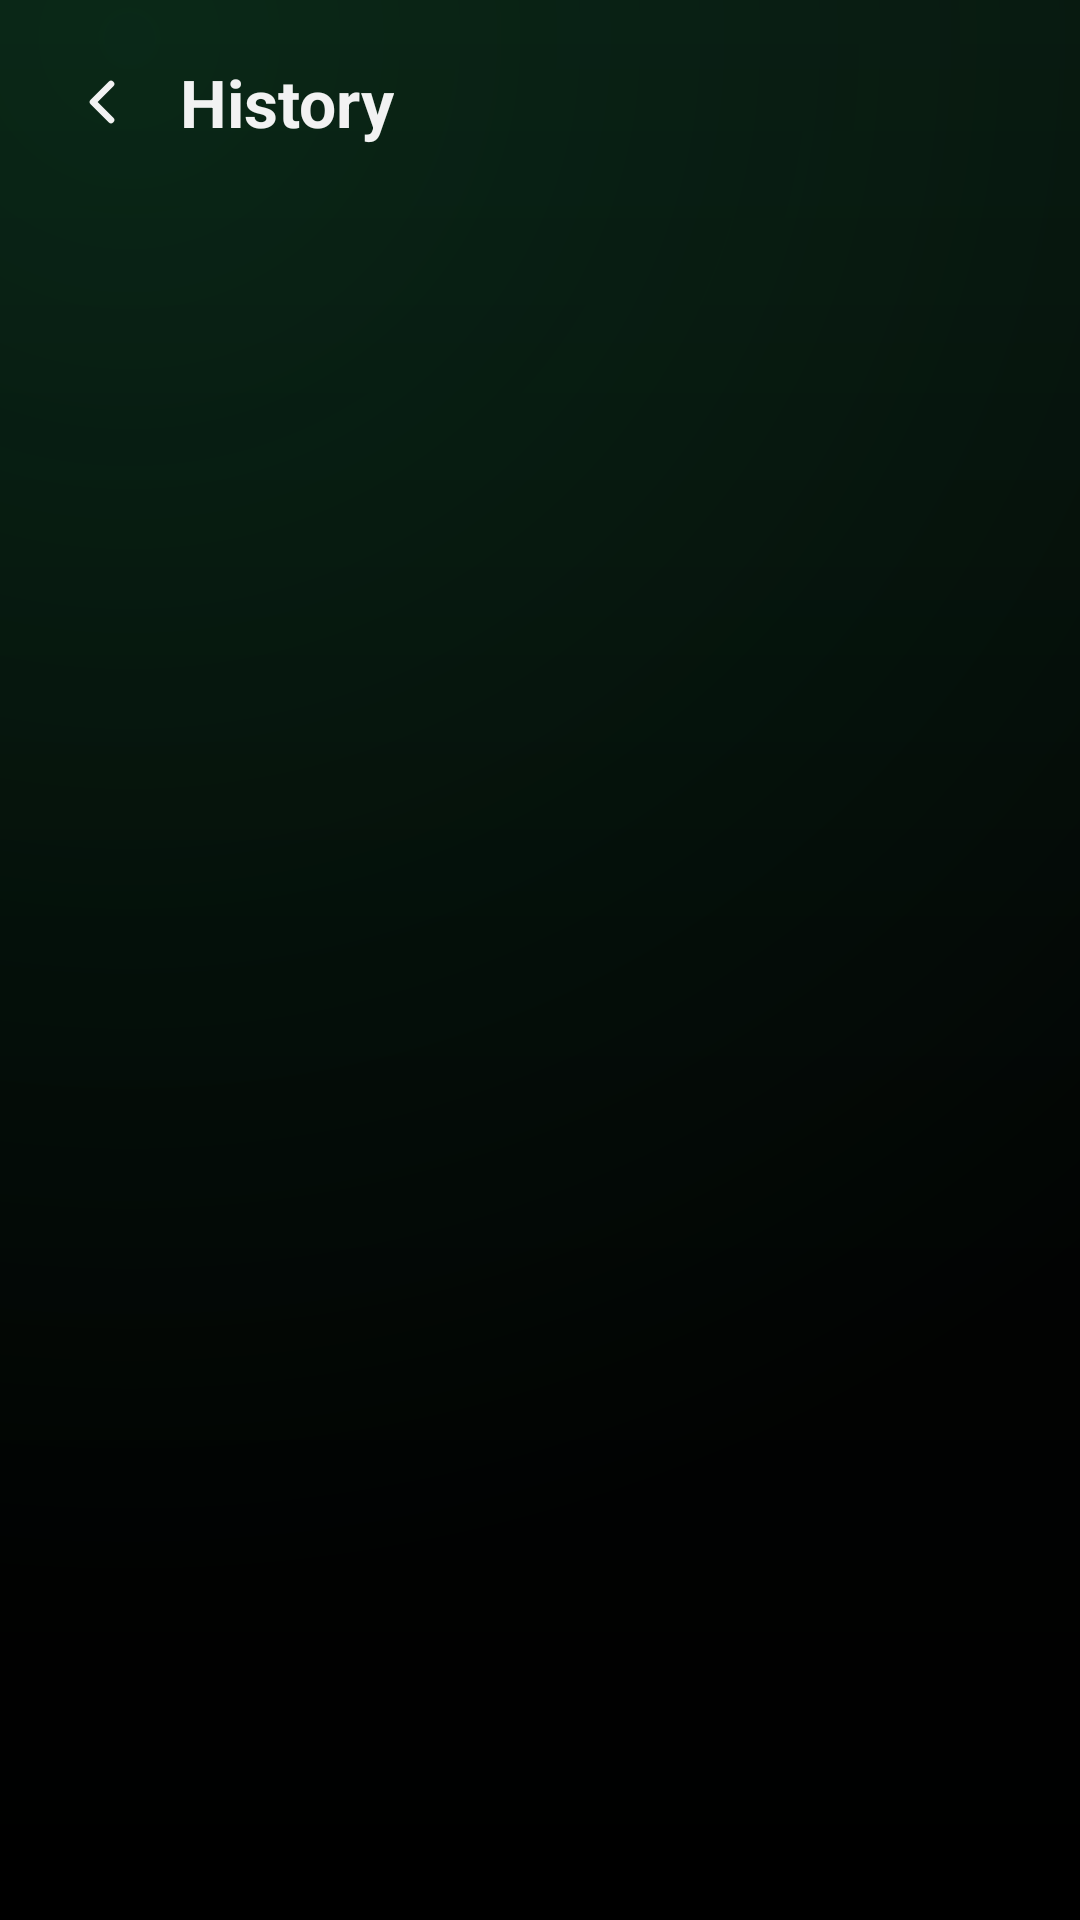

Icons on this 1080×1920 Android screen, each with its box as [x1, y1, x2, y2]:
Back: [89, 80, 115, 124]
